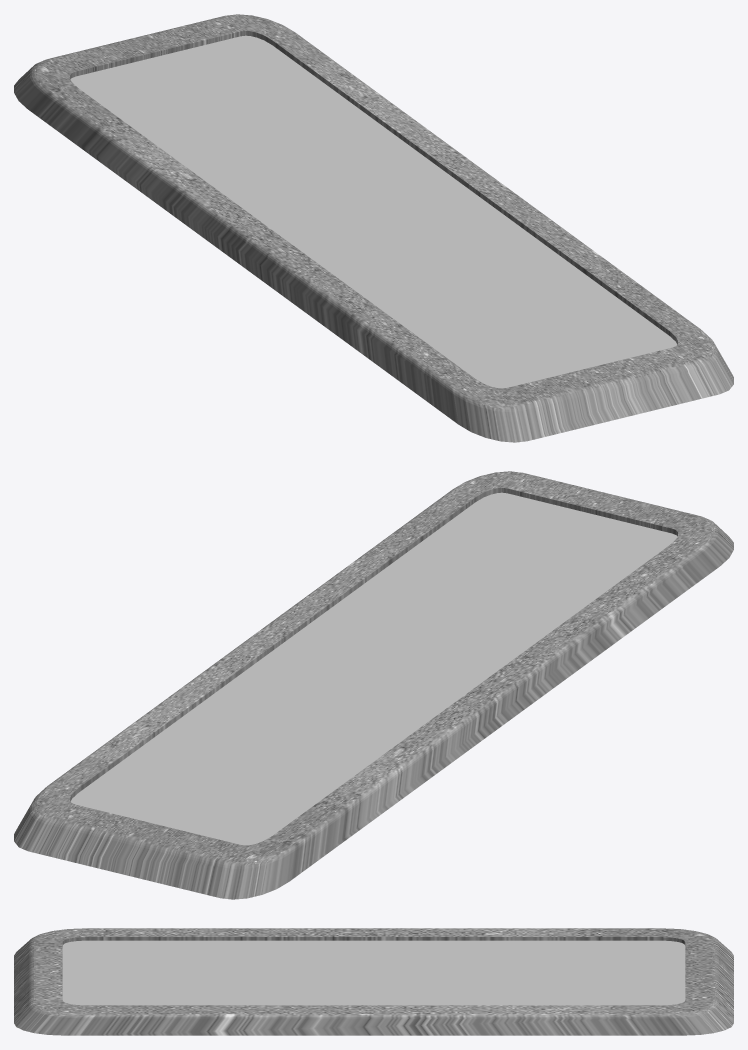
File: gasStationFloor.fbx
3 views of the same model, one above another, from view 1: azimuth 30°, elevation 25°; view 2: azimuth 150°, elevation 25°; view 3: azimuth 270°, elevation 25° (orthographic). The views are drawn at different scales.
Visible parts, largest first — view 1: Cube; view 2: Cube; view 3: Cube.
Part boxes in pixels (x1,y1,x2,y2): Cube: (14, 14, 733, 442); Cube: (14, 471, 733, 899); Cube: (14, 928, 733, 1035).
Bounding box in the file's own units: 84 × 7.77 × 277.
